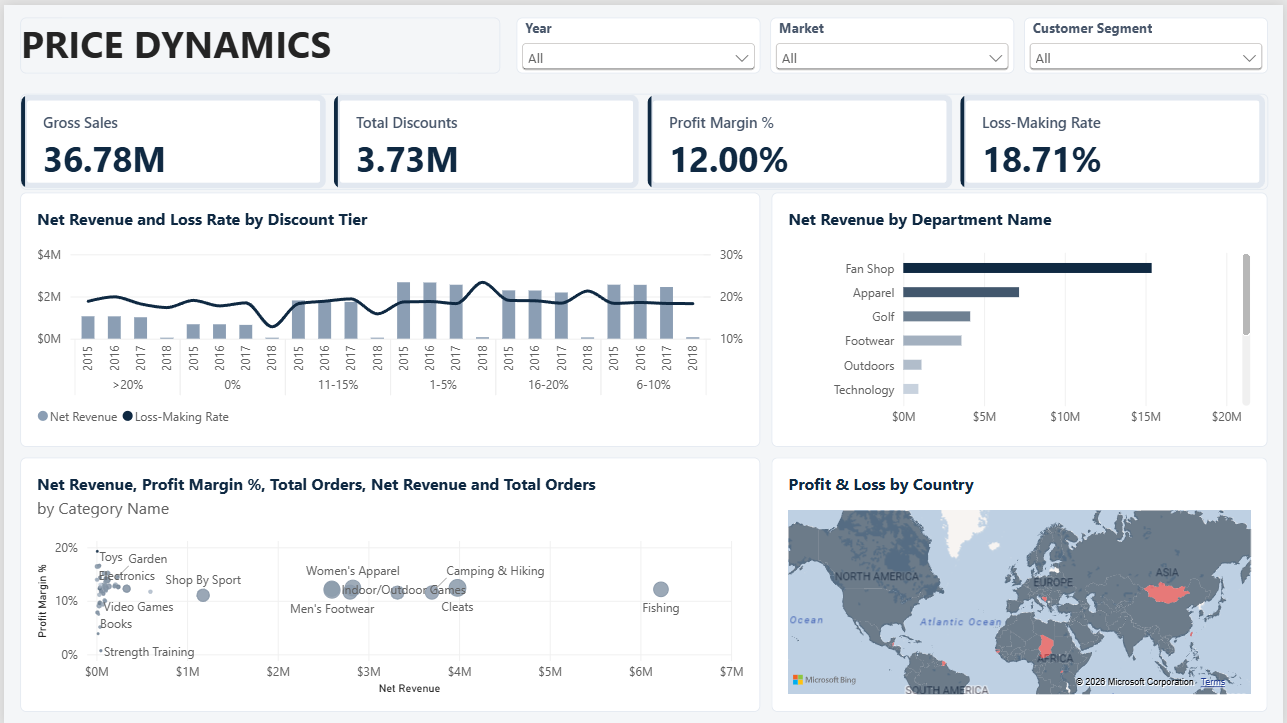

Layout of this report page (visuals, bound fields, positions):
{"tool":"powerbi","page":{"name":"Prices","canvas":[1280,720],"ordinal":1},"visuals":[{"type":"textbox","box":[16,12,480,56],"z":0},{"type":"slicer","fields":{"Values":["Cleaned_SupplyChain_Data.order date (DateOrders).Variation.Date Hierarchy.Year"]},"box":[512,12,244,56],"z":1000},{"type":"slicer","fields":{"Values":["Cleaned_SupplyChain_Data.Market"]},"box":[766,12,244,56],"z":2000},{"type":"slicer","fields":{"Values":["Cleaned_SupplyChain_Data.Customer Segment"]},"box":[1020,12,244,56],"z":3000},{"type":"cardVisual","fields":{"Data":["Cleaned_SupplyChain_Data.Gross Sales","Cleaned_SupplyChain_Data.Total Discounts","Cleaned_SupplyChain_Data.Profit Margin %","Cleaned_SupplyChain_Data.Loss-Making Rate"]},"box":[16,89,1248,96],"z":4000},{"type":"lineClusteredColumnComboChart","title":"Net Revenue and Loss Rate by Discount Tier","fields":{"Category":["Cleaned_SupplyChain_Data.discount_tier","Cleaned_SupplyChain_Data.order_date.Variation.Date Hierarchy.Year"],"Y":["Cleaned_SupplyChain_Data.Net Revenue"],"Y2":["Cleaned_SupplyChain_Data.Loss-Making Rate"]},"box":[16,188,740,254],"z":5000},{"type":"clusteredBarChart","fields":{"Category":["Cleaned_SupplyChain_Data.Department Name"],"Y":["Cleaned_SupplyChain_Data.Net Revenue"]},"box":[768,188,496,254],"z":6000},{"type":"scatterChart","fields":{"Category":["Cleaned_SupplyChain_Data.Category Name"],"Size":["Cleaned_SupplyChain_Data.Total Orders"],"X":["Cleaned_SupplyChain_Data.Net Revenue"],"Y":["Cleaned_SupplyChain_Data.Profit Margin %"]},"box":[16,452,740,254],"z":7000},{"type":"filledMap","title":"Profit & Loss by Country","fields":{"Category":["Cleaned_SupplyChain_Data.Order Country"]},"box":[768,452,496,254],"z":8000}]}

Visuals, with their boxes in screenshot pixels (x1, y1, x2, y2), scaled from the page's 1280x720 canvas onto the 1287x723 screenshot:
textbox: {"x1": 16, "y1": 12, "x2": 499, "y2": 68}
slicer - Cleaned_SupplyChain_Data.order date (DateOrders).Variation.Date Hierarchy.Year: {"x1": 515, "y1": 12, "x2": 760, "y2": 68}
slicer - Cleaned_SupplyChain_Data.Market: {"x1": 770, "y1": 12, "x2": 1016, "y2": 68}
slicer - Cleaned_SupplyChain_Data.Customer Segment: {"x1": 1026, "y1": 12, "x2": 1271, "y2": 68}
cardVisual - Cleaned_SupplyChain_Data.Gross Sales x Cleaned_SupplyChain_Data.Total Discounts: {"x1": 16, "y1": 89, "x2": 1271, "y2": 186}
"Net Revenue and Loss Rate by Discount Tier" lineClusteredColumnComboChart: {"x1": 16, "y1": 189, "x2": 760, "y2": 444}
clusteredBarChart - Cleaned_SupplyChain_Data.Department Name x Cleaned_SupplyChain_Data.Net Revenue: {"x1": 772, "y1": 189, "x2": 1271, "y2": 444}
scatterChart - Cleaned_SupplyChain_Data.Category Name x Cleaned_SupplyChain_Data.Total Orders: {"x1": 16, "y1": 454, "x2": 760, "y2": 709}
"Profit & Loss by Country" filledMap: {"x1": 772, "y1": 454, "x2": 1271, "y2": 709}
